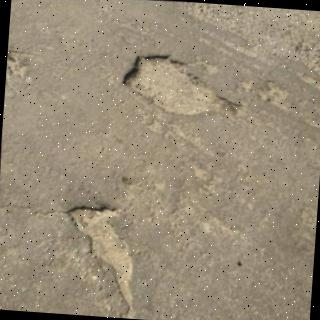pothole: (66, 205, 135, 319), (120, 55, 241, 116)
